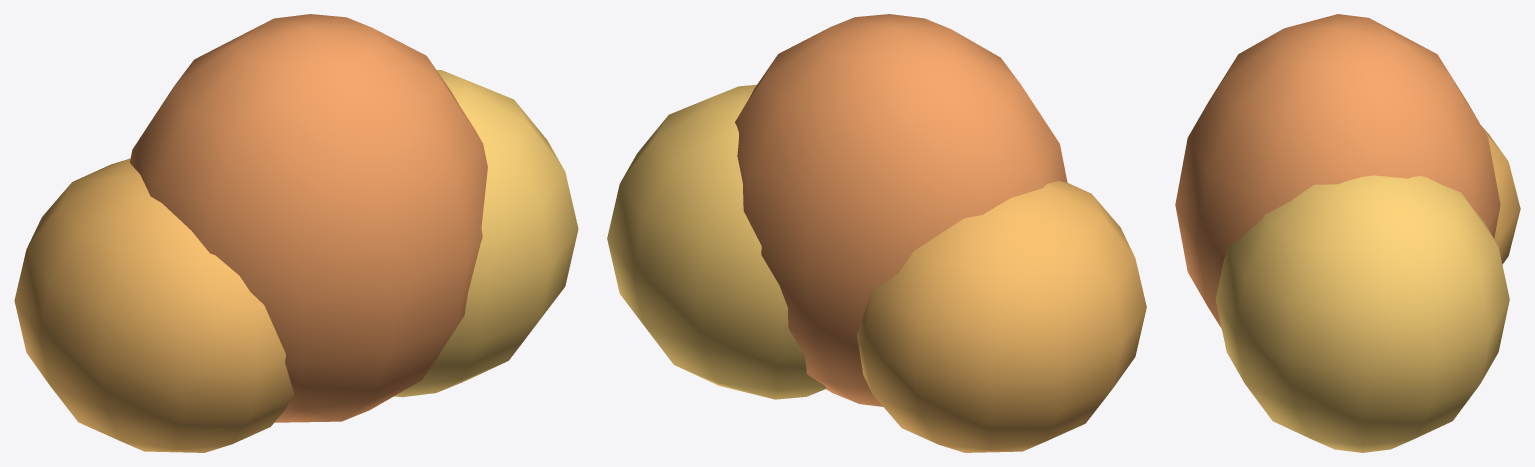
The model's file is shrub_autumn_low.glb.
3 views of the same model, side by side, from view 1: azimuth 30°, elevation 25°; view 2: azimuth 150°, elevation 25°; view 3: azimuth 270°, elevation 25° (orthographic). The views are drawn at different scales.
Bounding box in the file's own units: 1.77 × 1.27 × 1.11.
